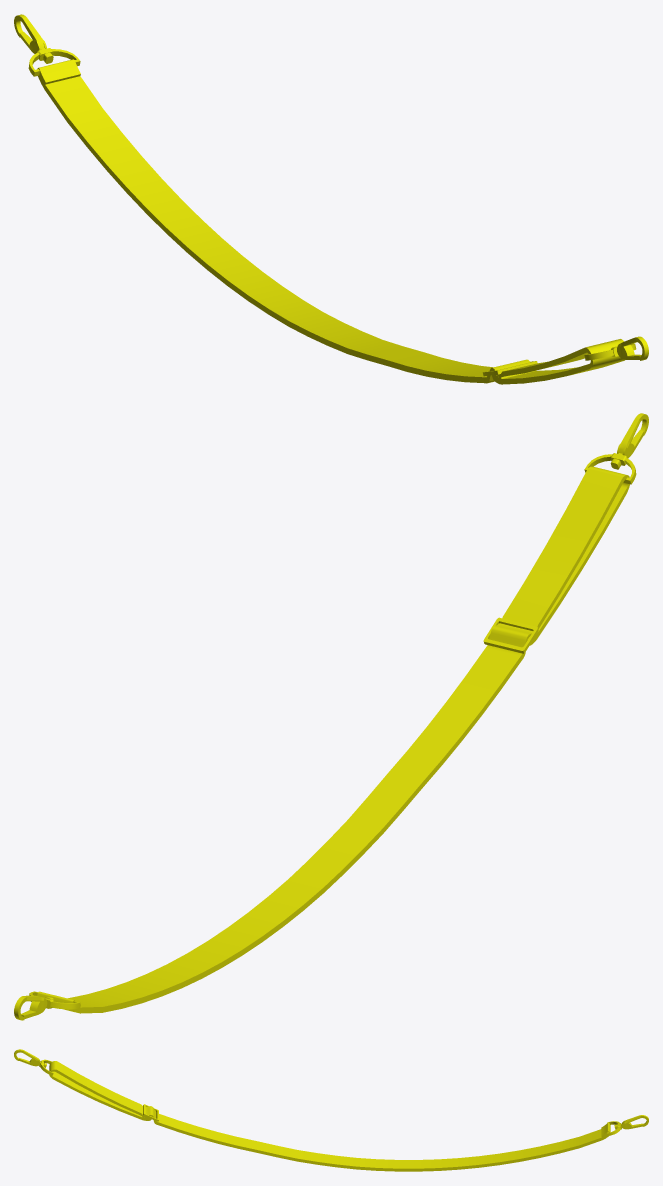
File: TempleIm_JC_Team6_Mesh_ShotgunStrap.fbx
3 views of the same model, one above another, from view 1: azimuth 30°, elevation 25°; view 2: azimuth 150°, elevation 25°; view 3: azimuth 270°, elevation 25° (orthographic). The views are drawn at different scales.
Parts seen in each view (by area): view 1: S_ShotgunStrap; view 2: S_ShotgunStrap; view 3: S_ShotgunStrap.
Boxes of the visible parts, left/top/right/bottom form: S_ShotgunStrap: left=14, top=14, right=648, bottom=384; S_ShotgunStrap: left=14, top=413, right=648, bottom=1020; S_ShotgunStrap: left=14, top=1049, right=648, bottom=1171.
Bounding box in the file's own units: 3.55 × 84.56 × 17.25.
